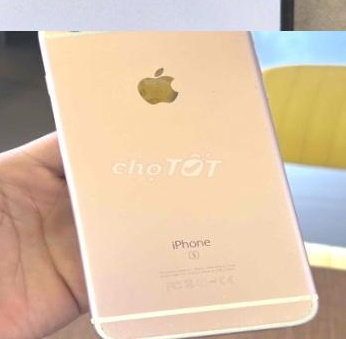scratch: (288, 287, 346, 339), (86, 315, 161, 339), (56, 31, 114, 45)
